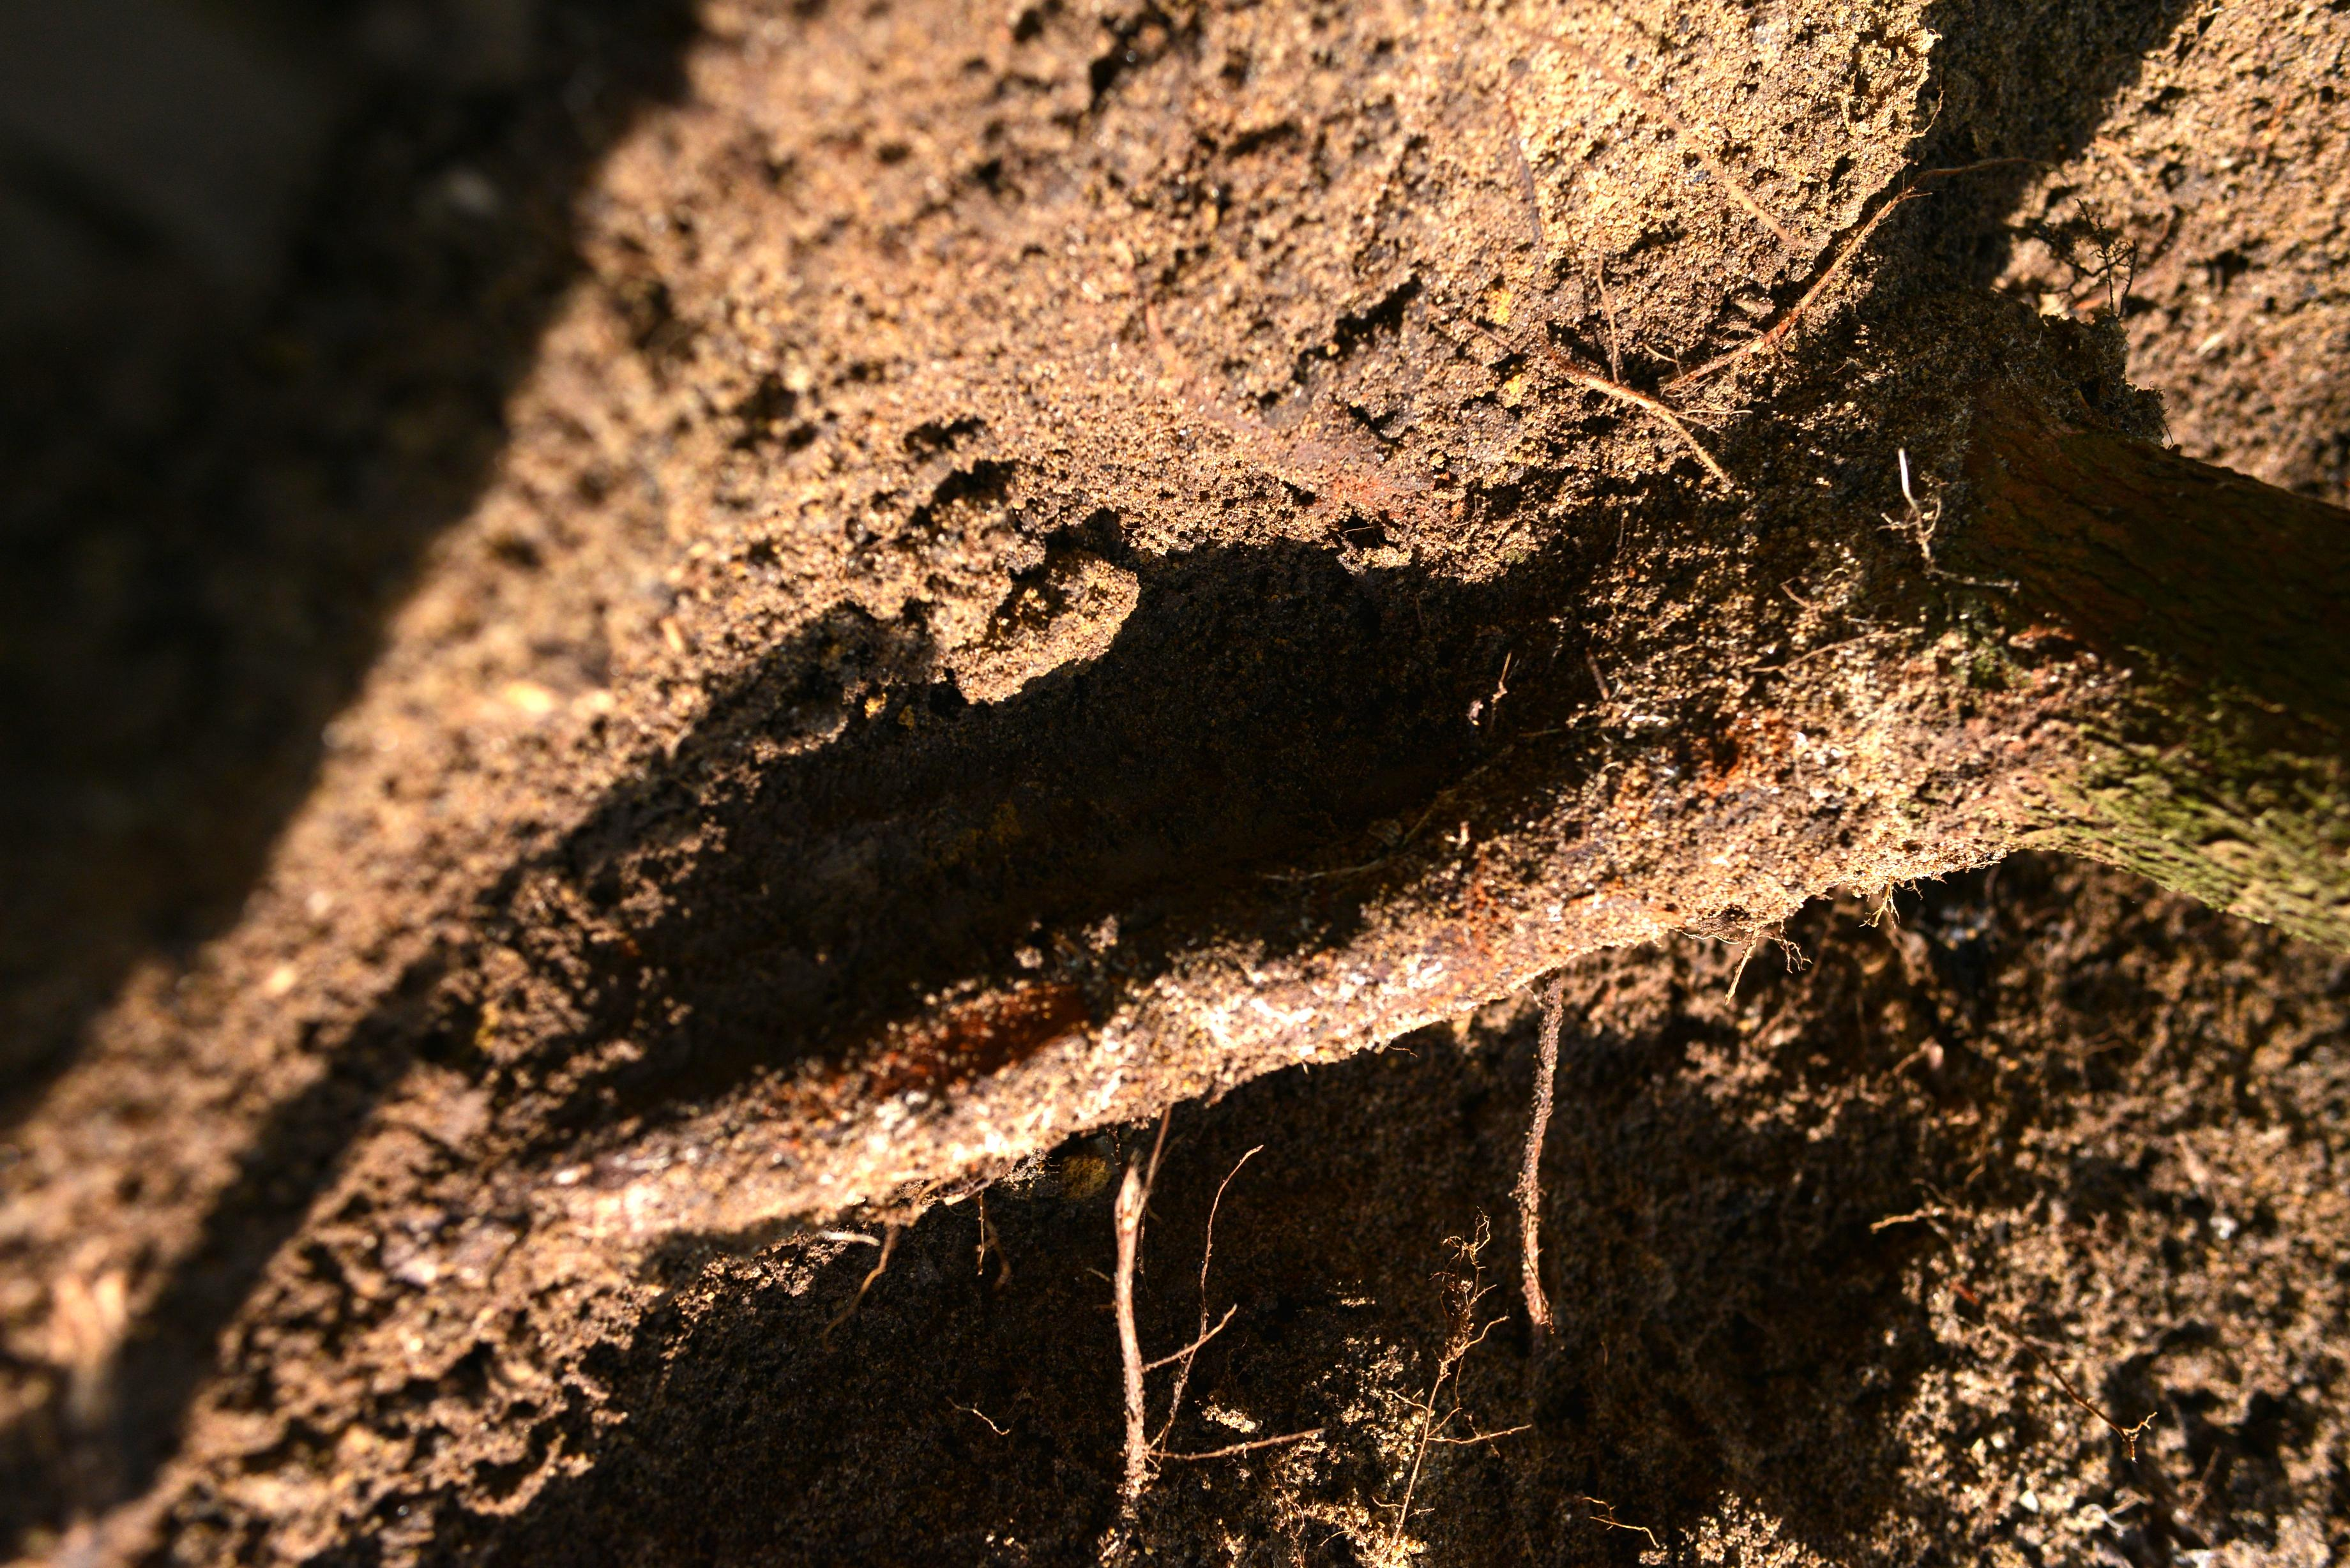Ganoderma - Mycelium: (803, 929, 1501, 1190), (1547, 597, 1965, 913), (534, 1134, 689, 1248)
